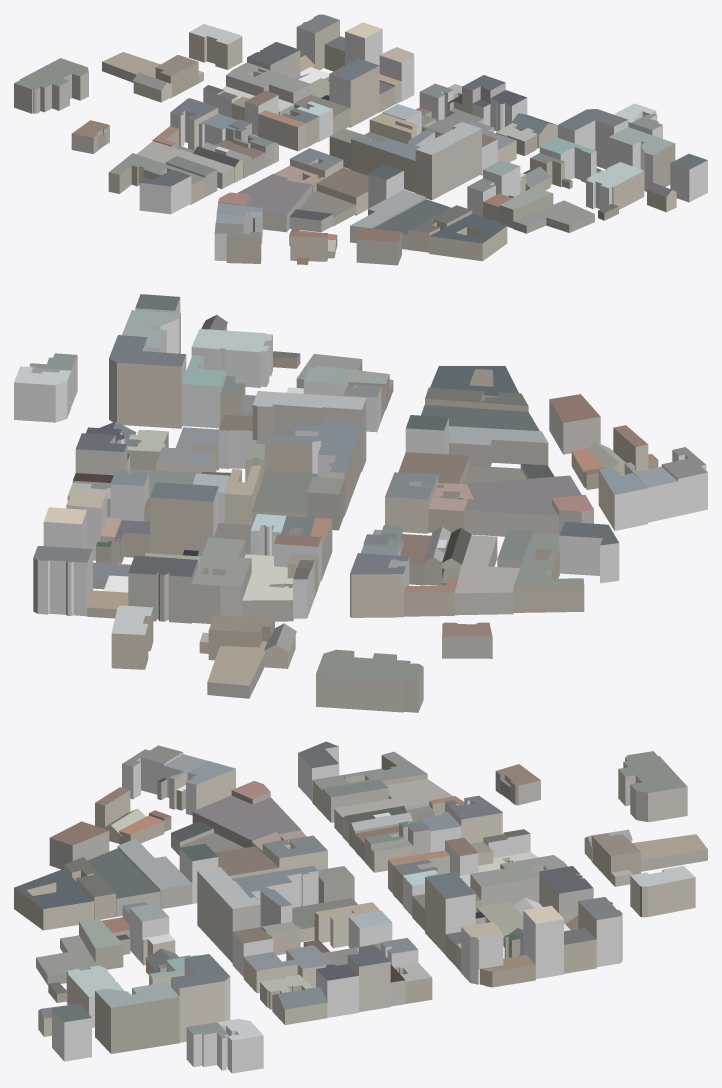
3 views of the same model, one above another, from view 1: azimuth 30°, elevation 25°; view 2: azimuth 150°, elevation 25°; view 3: azimuth 270°, elevation 25° (orthographic). The views are drawn at different scales.
Visible parts, largest first — view 1: tuile; view 2: tuile; view 3: tuile.
Part boxes in pixels (bbox=[...]): tuile: bbox=[14, 14, 707, 265]; tuile: bbox=[14, 294, 707, 712]; tuile: bbox=[14, 741, 707, 1073].
Bounding box in the file's own units: 265 × 28.22 × 276.
